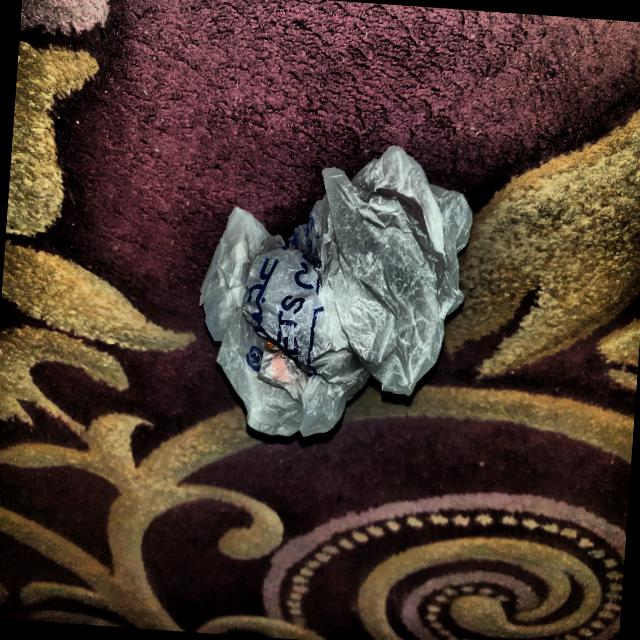plastic bag: (182, 122, 488, 464)
